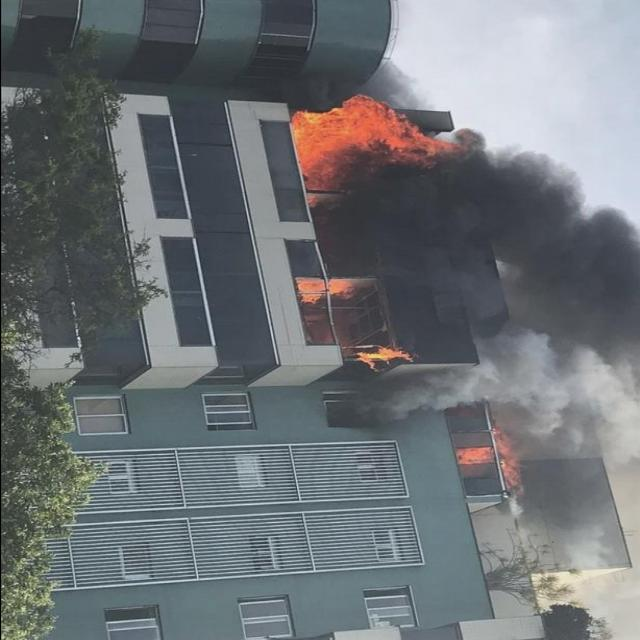Fire: (296, 86, 434, 192), (458, 435, 512, 487), (356, 346, 409, 374), (304, 282, 352, 304)
